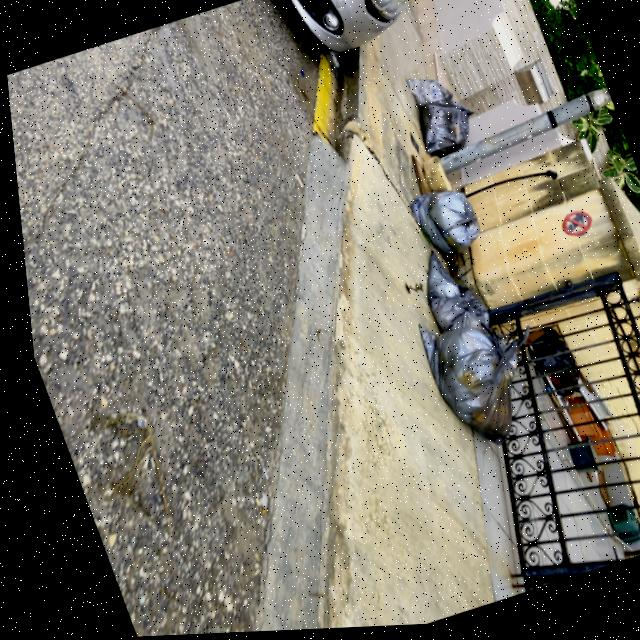Mixed Waste -Black Bag-: (404, 296, 560, 464), (404, 244, 488, 352), (402, 186, 483, 266), (408, 99, 484, 167), (403, 72, 453, 116)
